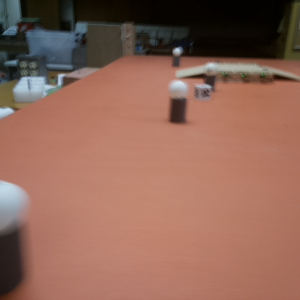blockB: (194, 85, 213, 101)
obstacle: (1, 177, 29, 291), (167, 80, 189, 124), (205, 61, 215, 82), (171, 46, 182, 64)
side: (217, 69, 273, 83)
slope: (274, 67, 300, 83), (178, 66, 204, 79)
